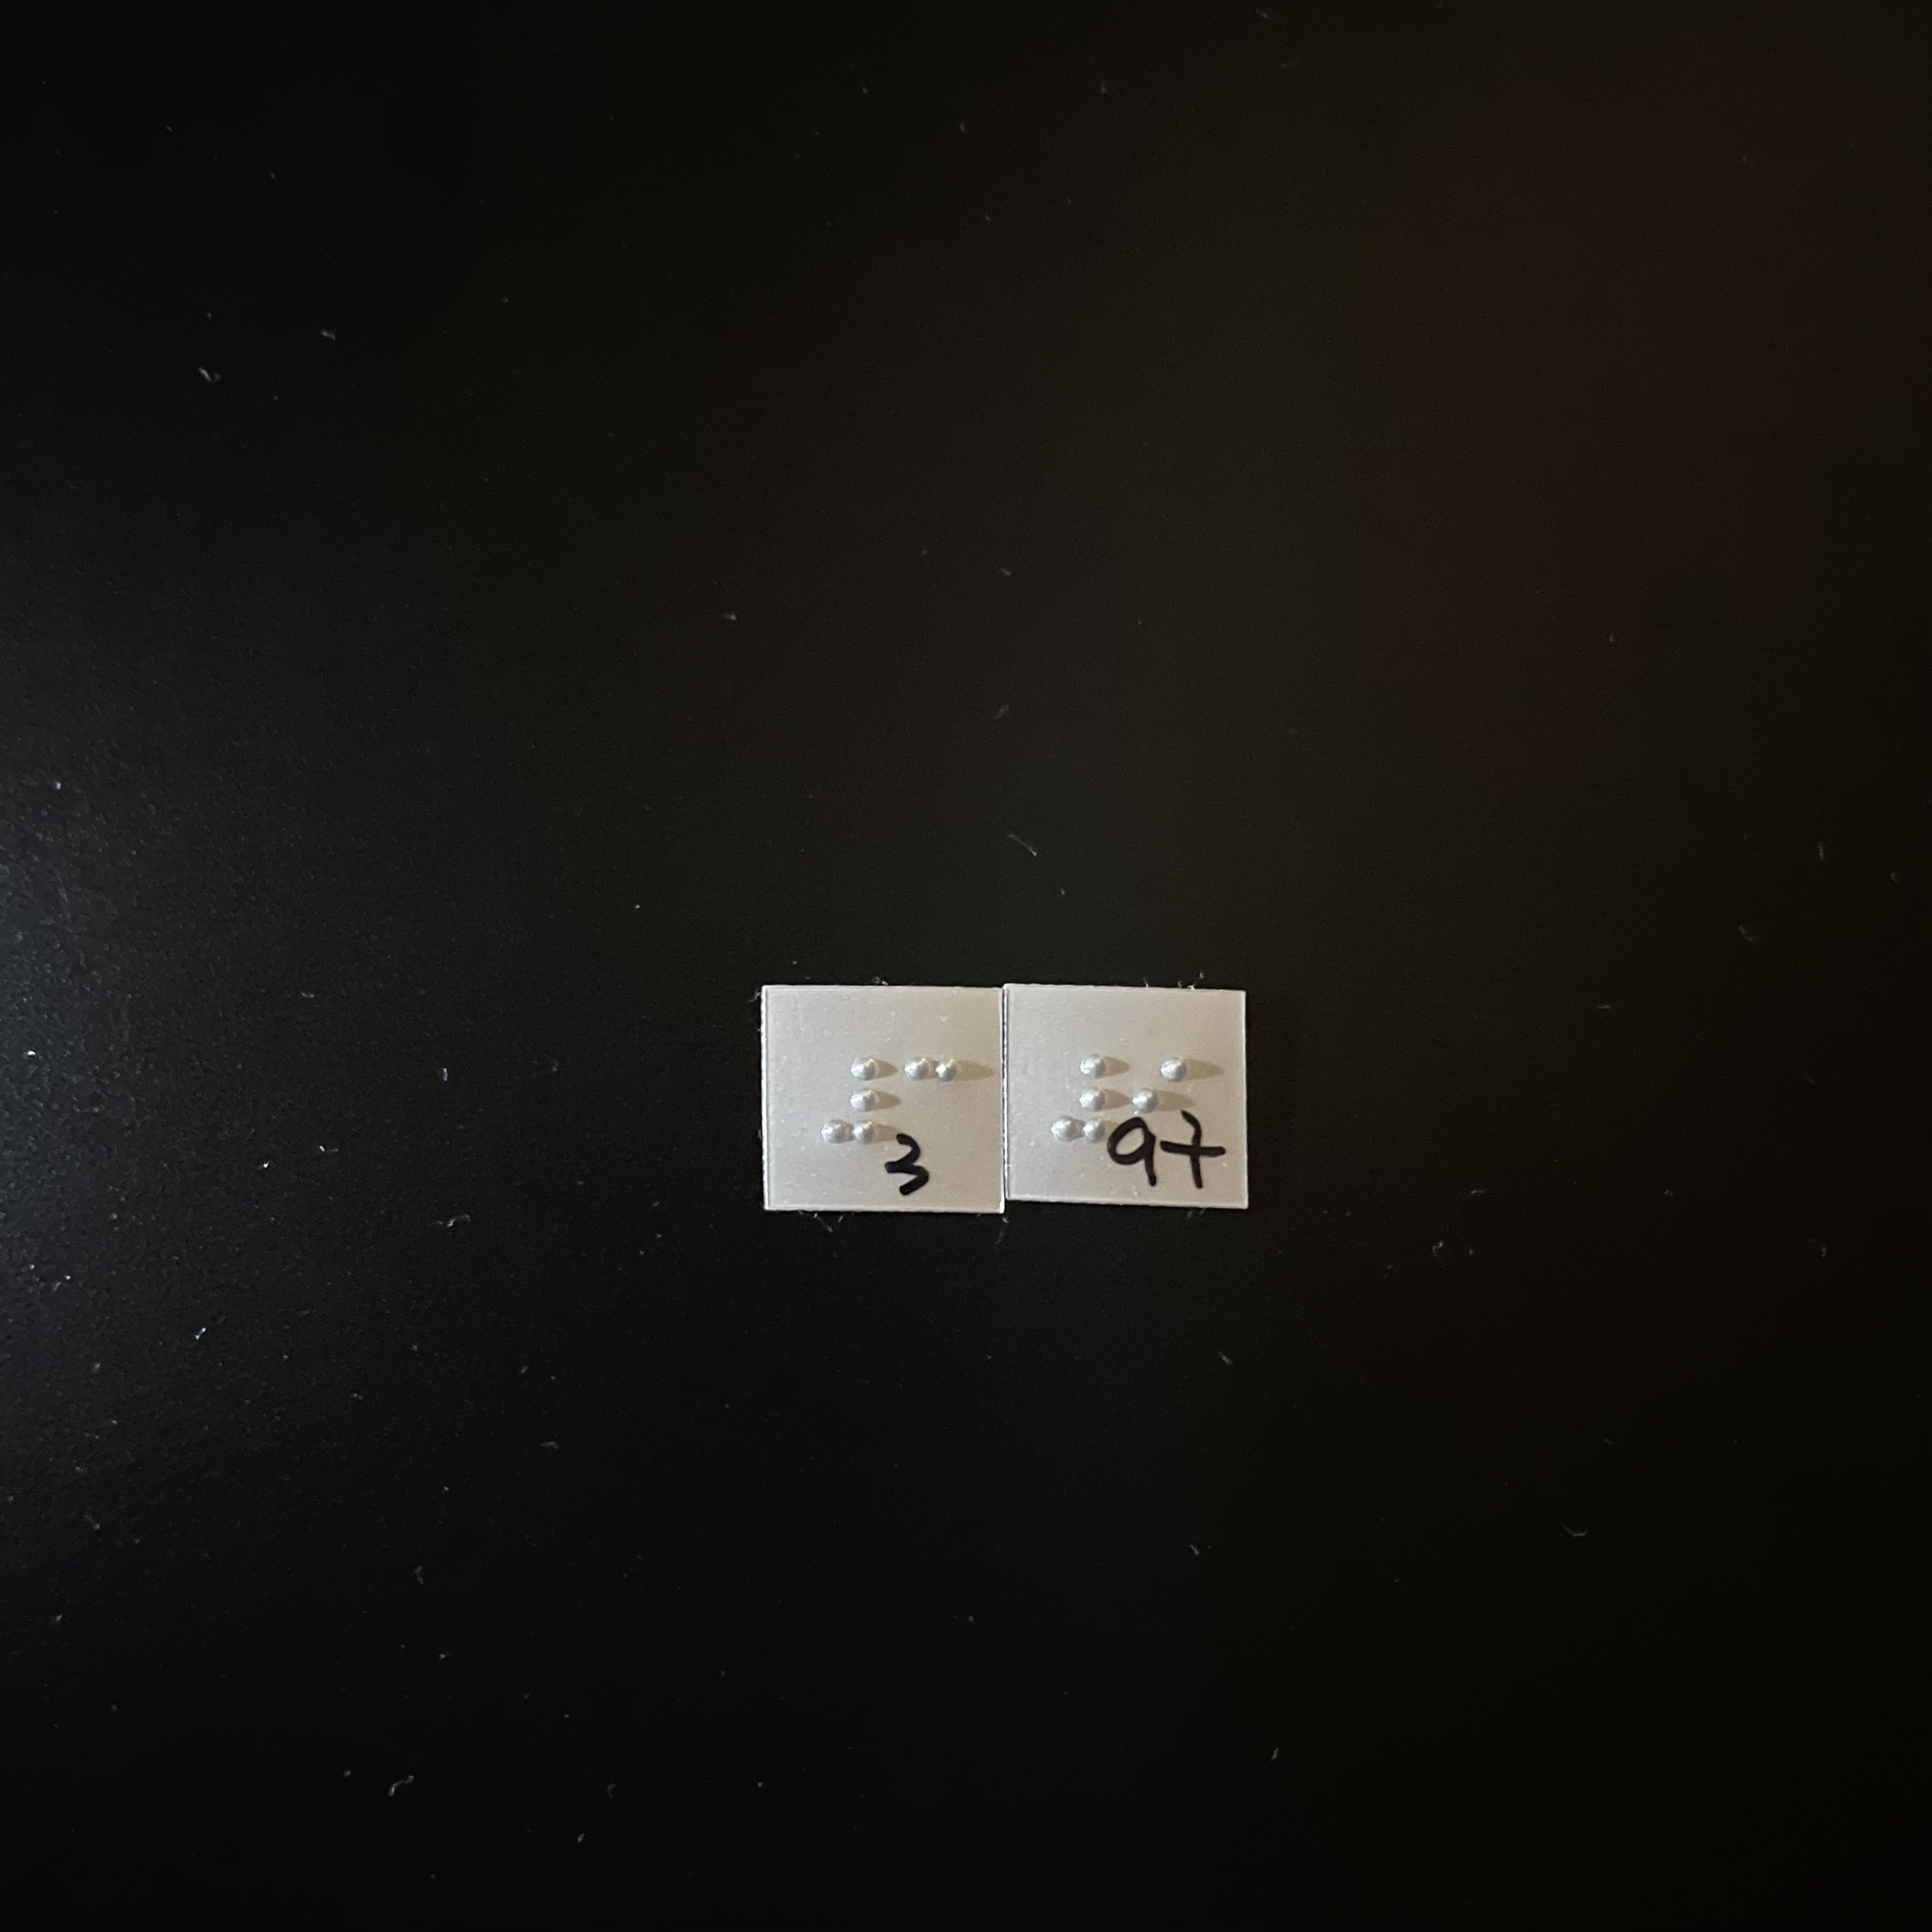#: (1043, 1044, 1131, 1156), (816, 1051, 903, 1154)
c: (901, 1048, 972, 1161)
i: (1133, 1044, 1215, 1158)
